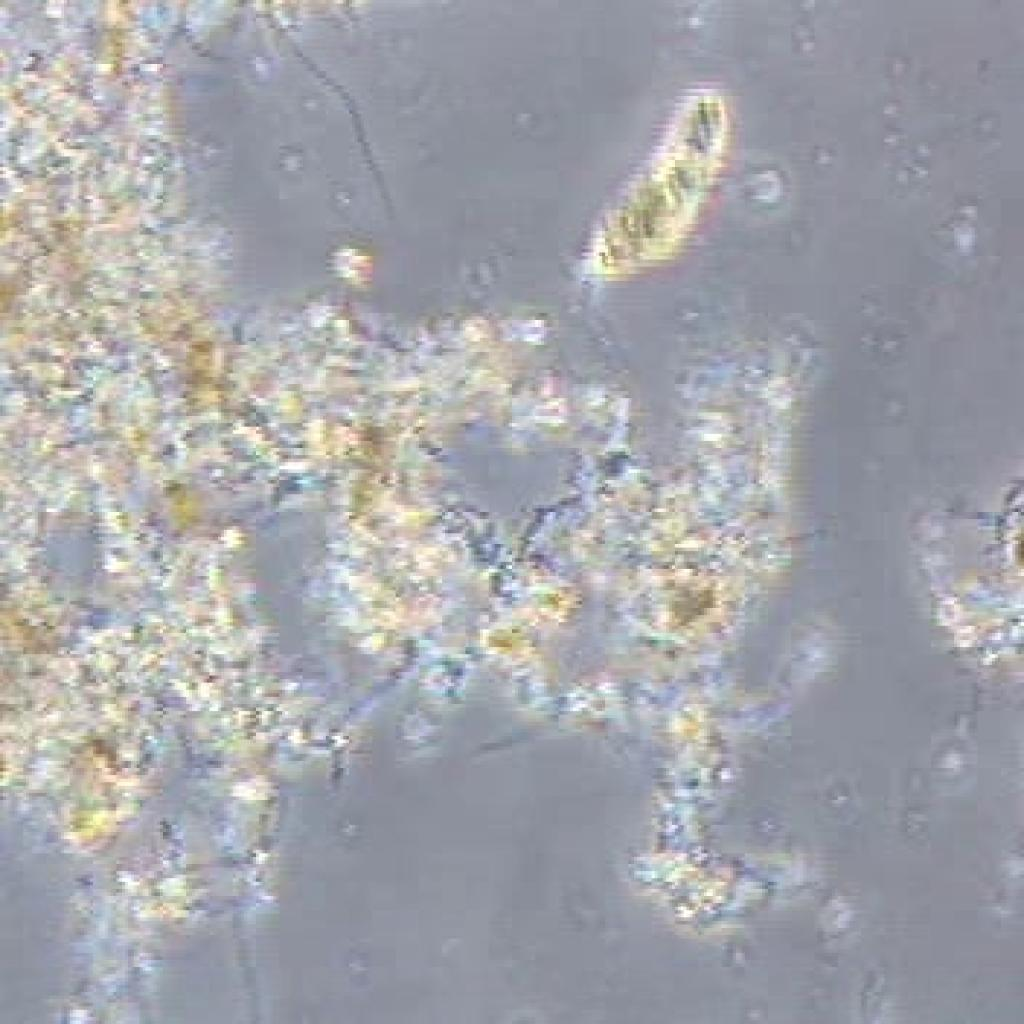Chaetonotus: (564, 76, 722, 282)
